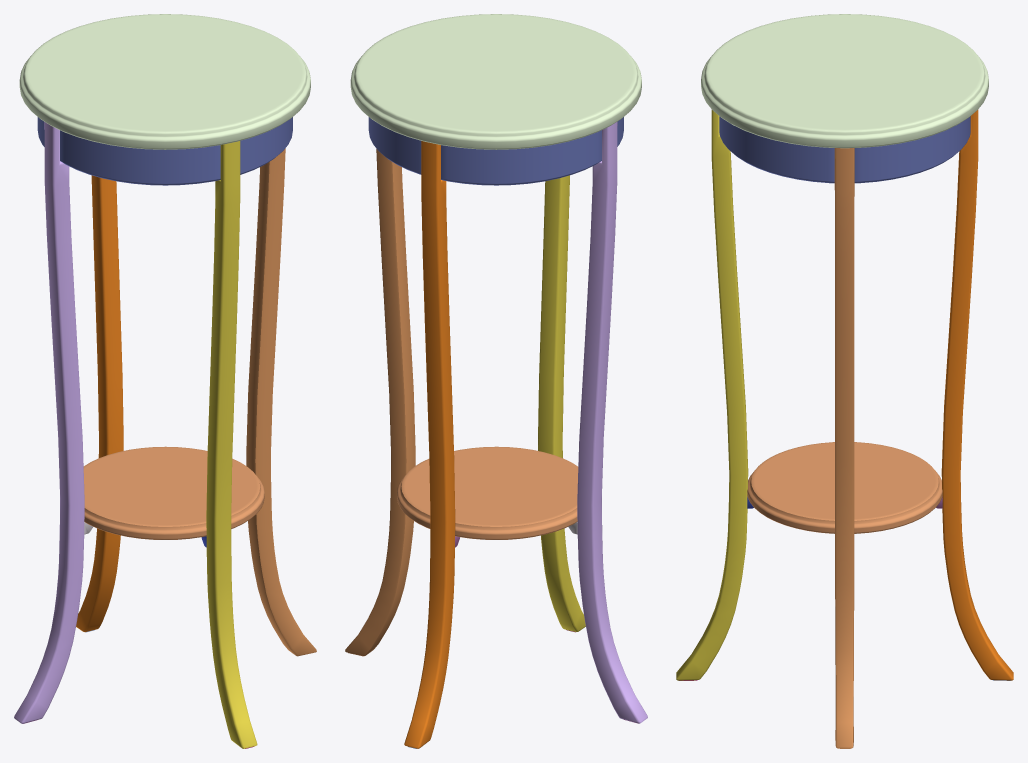
3 views of the same model, side by side, from view 1: azimuth 30°, elevation 25°; view 2: azimuth 150°, elevation 25°; view 3: azimuth 270°, elevation 25° (orthographic).
Visible parts, largest first — view 1: side_table_tall_01_side_table_tall_01_0.056, side_table_tall_01_side_table_tall_01_0.020, side_table_tall_01_side_table_tall_01_0.041, side_table_tall_01_side_table_tall_01_0.141, split_parent_5, side_table_tall_01_side_table_tall_01_0.027, side_table_tall_01_side_table_tall_01_0.048; view 2: side_table_tall_01_side_table_tall_01_0.056, side_table_tall_01_side_table_tall_01_0.027, side_table_tall_01_side_table_tall_01_0.041, side_table_tall_01_side_table_tall_01_0.141, split_parent_5, side_table_tall_01_side_table_tall_01_0.020, side_table_tall_01_side_table_tall_01_0.048; view 3: side_table_tall_01_side_table_tall_01_0.056, side_table_tall_01_side_table_tall_01_0.141, split_parent_5, side_table_tall_01_side_table_tall_01_0.020, side_table_tall_01_side_table_tall_01_0.027, side_table_tall_01_side_table_tall_01_0.048.
Boxes of the visible parts, x1,y1,x2,y2 form: side_table_tall_01_side_table_tall_01_0.056: [19, 14, 310, 149]; side_table_tall_01_side_table_tall_01_0.020: [206, 141, 257, 748]; side_table_tall_01_side_table_tall_01_0.041: [14, 122, 84, 723]; side_table_tall_01_side_table_tall_01_0.141: [83, 446, 264, 539]; split_parent_5: [246, 148, 316, 656]; side_table_tall_01_side_table_tall_01_0.027: [76, 175, 123, 632]; side_table_tall_01_side_table_tall_01_0.048: [37, 117, 292, 185]; side_table_tall_01_side_table_tall_01_0.056: [350, 14, 641, 149]; side_table_tall_01_side_table_tall_01_0.027: [404, 141, 455, 748]; side_table_tall_01_side_table_tall_01_0.041: [577, 121, 647, 723]; side_table_tall_01_side_table_tall_01_0.141: [397, 446, 578, 539]; split_parent_5: [345, 149, 415, 656]; side_table_tall_01_side_table_tall_01_0.020: [538, 175, 585, 631]; side_table_tall_01_side_table_tall_01_0.048: [368, 117, 623, 185]; side_table_tall_01_side_table_tall_01_0.056: [701, 14, 988, 148]; side_table_tall_01_side_table_tall_01_0.141: [747, 442, 942, 533]; split_parent_5: [834, 148, 854, 748]; side_table_tall_01_side_table_tall_01_0.020: [676, 109, 748, 680]; side_table_tall_01_side_table_tall_01_0.027: [941, 109, 1013, 680]; side_table_tall_01_side_table_tall_01_0.048: [719, 116, 970, 183].
Bounding box in the file's own units: 0.5045 × 1 × 0.5045.
